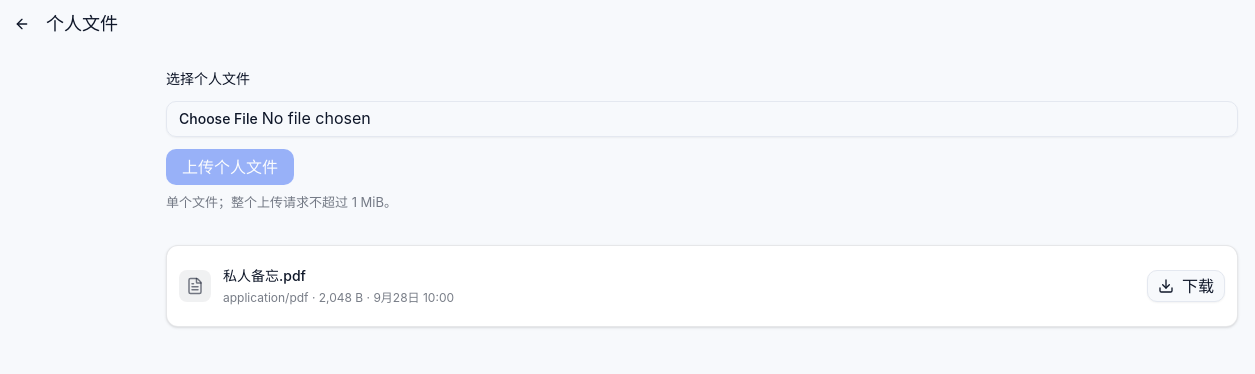
Scenario: 下载响应字节少于已校验 Asset 大小时不触发保存
Click the button with test id "library-file-download" at (1186, 286), box [1147,270,1225,302]
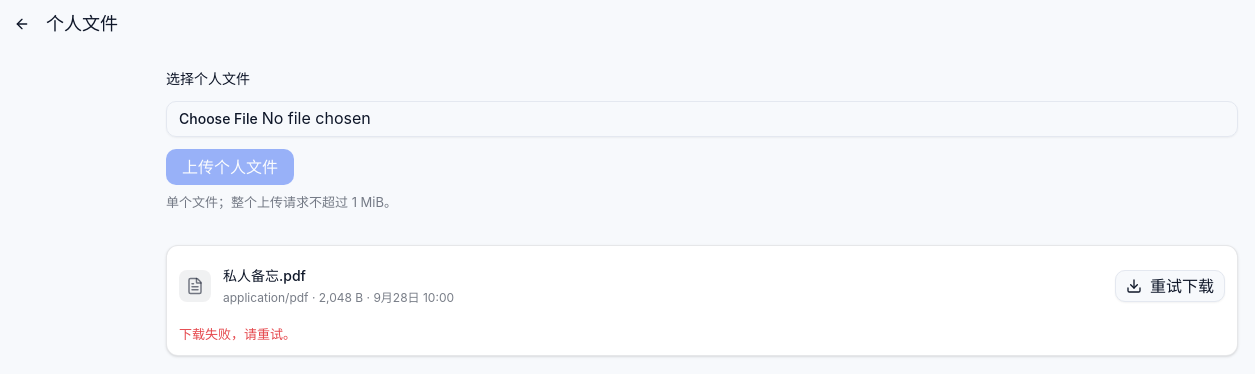
Now the message shows "下载失败", box [179,326,296,342]
